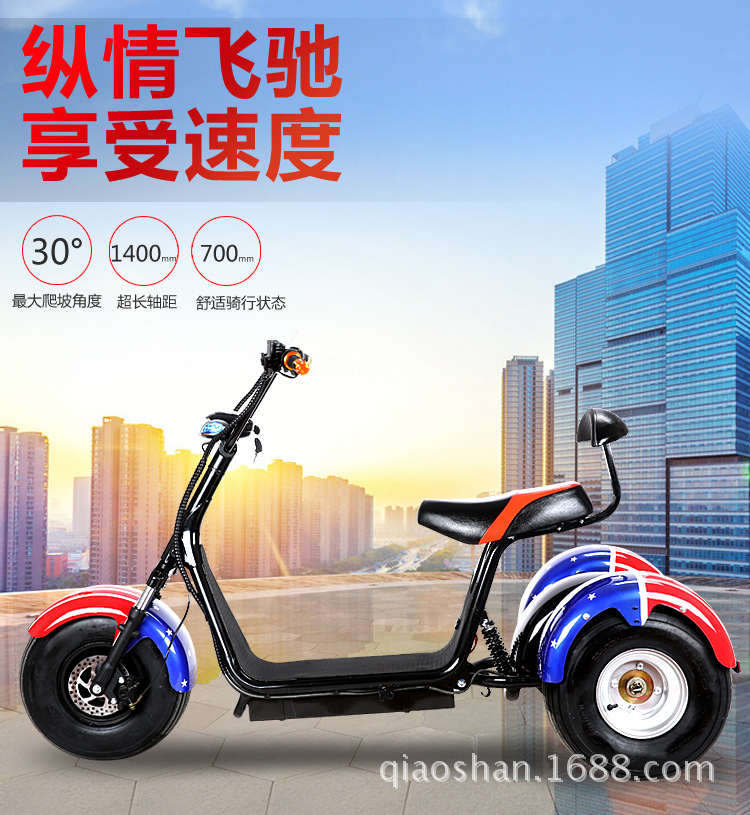电动车: (32, 315, 746, 779)
